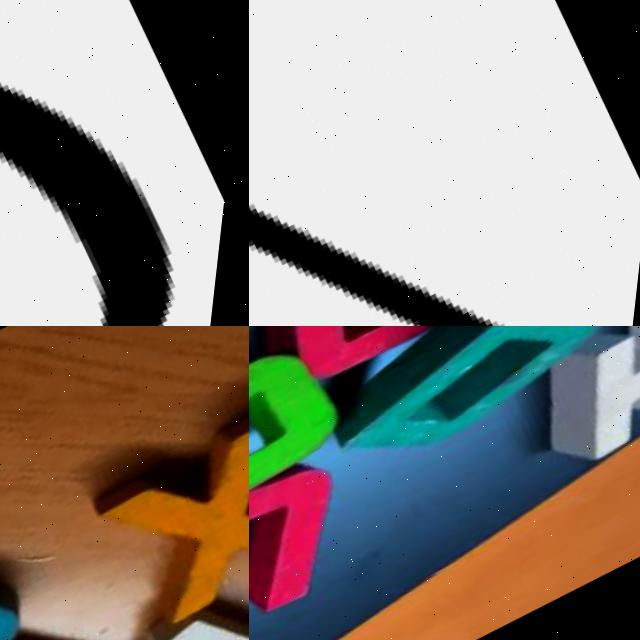C: (249, 326, 382, 583)
D: (0, 0, 248, 326), (310, 326, 636, 490)
H: (517, 326, 640, 474)
J: (0, 491, 105, 640)
O: (249, 326, 538, 414)
U: (249, 444, 387, 640)
V: (249, 0, 640, 326)
X: (66, 380, 249, 640)
Z: (0, 552, 249, 640)
